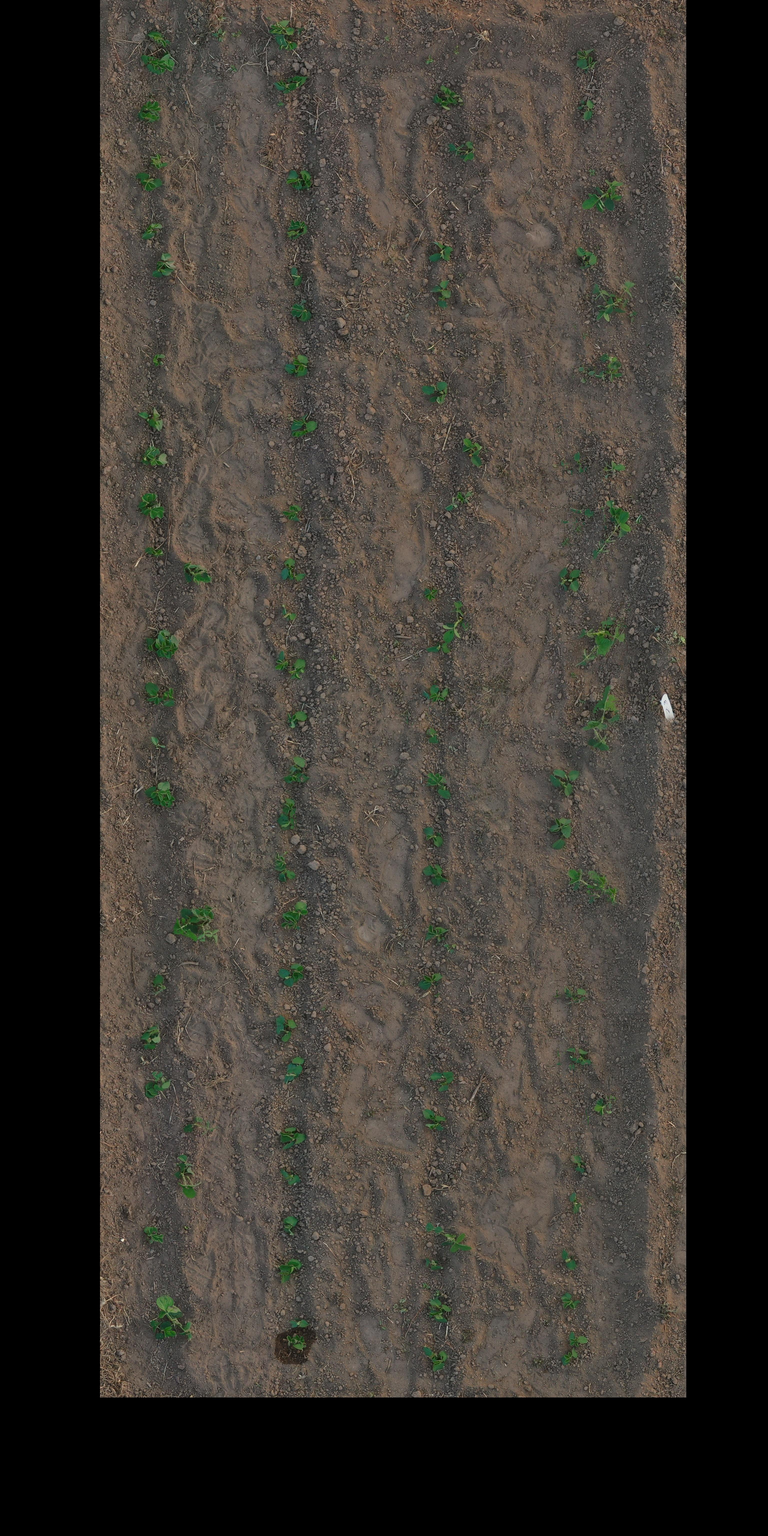s: (582, 684, 621, 751), (567, 868, 621, 906), (592, 510, 631, 559), (155, 1295, 193, 1340), (172, 908, 220, 943), (581, 179, 624, 213), (425, 1222, 472, 1253), (574, 634, 614, 668), (577, 616, 625, 643), (174, 1154, 202, 1199), (604, 281, 635, 314), (442, 600, 464, 644), (183, 559, 212, 586), (183, 1116, 219, 1136), (268, 20, 295, 46), (592, 283, 610, 322), (462, 438, 482, 467), (428, 241, 453, 264), (593, 363, 623, 382), (448, 141, 475, 162), (150, 1319, 177, 1340), (135, 172, 163, 192), (144, 781, 170, 802), (549, 774, 572, 797), (282, 901, 308, 921), (290, 299, 312, 322), (576, 246, 597, 270), (141, 54, 166, 74), (600, 460, 625, 480), (552, 824, 571, 850), (291, 420, 318, 438), (155, 633, 173, 659), (418, 972, 444, 990), (280, 1132, 306, 1150), (428, 864, 449, 886), (158, 628, 181, 648), (424, 924, 449, 942), (145, 682, 164, 705), (146, 30, 170, 48), (422, 865, 442, 886), (423, 827, 443, 848), (292, 354, 310, 377), (548, 817, 572, 834), (272, 79, 299, 94), (141, 503, 166, 519), (146, 448, 168, 466), (288, 658, 306, 680), (279, 1168, 301, 1186), (598, 353, 621, 370), (576, 48, 595, 68), (156, 252, 176, 271), (286, 170, 304, 191), (433, 92, 454, 110), (421, 381, 448, 395), (286, 710, 307, 728), (195, 905, 220, 920), (141, 223, 163, 240), (287, 1056, 304, 1078), (150, 56, 173, 72), (280, 558, 296, 581), (552, 769, 580, 782), (445, 492, 464, 511), (138, 492, 158, 510), (282, 504, 302, 522), (144, 1226, 164, 1244), (422, 1108, 446, 1123), (560, 1346, 578, 1366), (560, 1292, 581, 1309), (140, 100, 162, 116), (432, 1350, 448, 1372), (562, 1248, 577, 1271), (290, 412, 308, 431), (429, 386, 448, 404), (277, 812, 296, 830), (140, 445, 156, 466), (145, 1082, 166, 1098), (428, 1298, 452, 1312), (151, 794, 176, 807), (289, 756, 307, 774), (430, 684, 448, 702), (143, 1032, 161, 1050), (281, 915, 300, 932), (568, 569, 582, 592), (274, 1014, 297, 1028), (137, 412, 157, 428), (278, 968, 294, 988), (282, 1216, 298, 1236), (277, 1264, 293, 1284), (568, 1331, 588, 1347), (287, 219, 308, 234), (274, 650, 289, 671), (426, 642, 452, 654), (152, 974, 166, 996), (282, 773, 310, 784), (424, 772, 446, 786), (581, 56, 598, 74), (140, 1025, 159, 1041), (282, 798, 297, 818), (570, 1154, 585, 1174), (286, 1335, 306, 1350), (290, 962, 304, 983), (150, 154, 168, 170), (440, 85, 456, 103), (436, 290, 452, 308), (276, 1024, 292, 1042), (284, 1258, 302, 1274), (286, 75, 308, 88), (430, 279, 450, 293), (162, 687, 176, 707), (273, 852, 287, 872), (428, 1309, 448, 1323), (569, 1191, 581, 1214), (152, 406, 163, 431), (299, 170, 312, 191), (423, 1257, 444, 1270), (281, 604, 297, 621), (160, 50, 175, 68), (593, 1098, 608, 1116), (284, 1063, 296, 1085), (569, 1054, 591, 1066), (290, 267, 303, 287), (558, 566, 568, 592), (438, 1076, 454, 1092), (422, 1346, 438, 1362), (278, 868, 296, 882), (429, 1071, 454, 1081), (278, 38, 297, 51), (609, 506, 622, 525), (138, 112, 160, 123), (566, 987, 588, 998), (422, 587, 438, 602), (284, 364, 301, 378), (573, 452, 584, 473), (426, 727, 439, 744), (583, 100, 594, 120), (152, 268, 174, 278), (290, 1317, 310, 1328), (165, 643, 179, 658), (437, 785, 451, 800), (144, 547, 164, 557), (287, 572, 306, 582), (152, 353, 166, 366), (151, 736, 166, 748), (152, 1070, 163, 1086), (279, 1127, 298, 1136), (286, 230, 303, 240), (566, 1047, 588, 1054), (425, 1123, 444, 1131), (610, 194, 622, 202), (576, 100, 585, 110)
